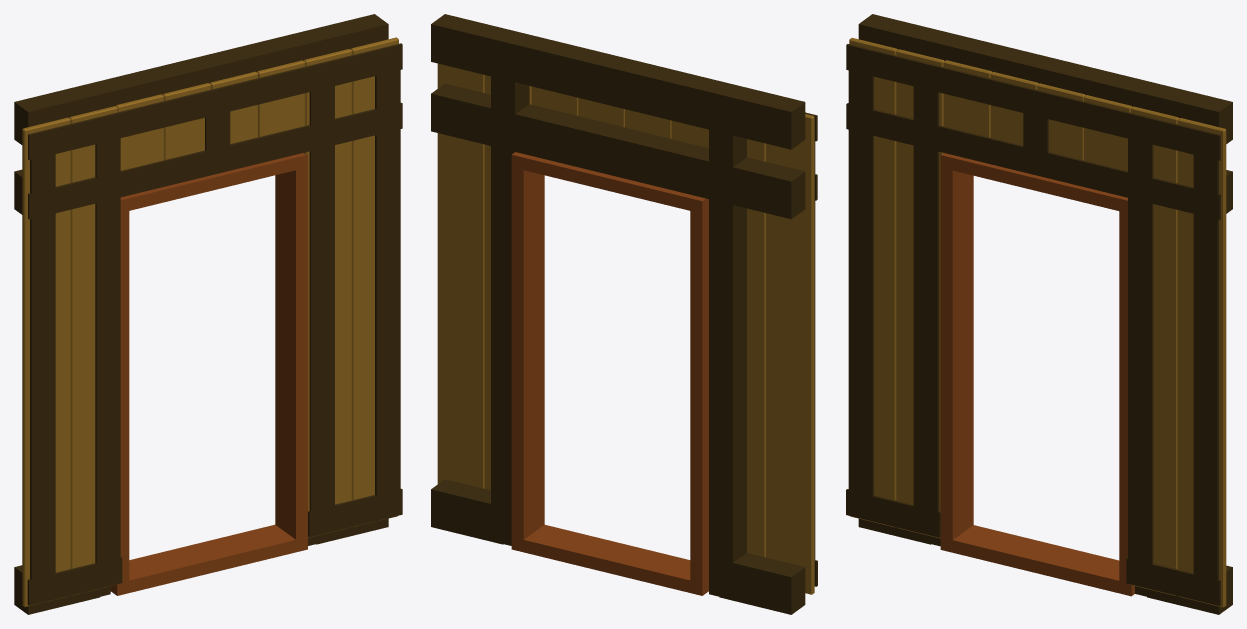
Rendered from zid sa vrata.FBX.
3 views of the same model, side by side, from view 1: azimuth 30°, elevation 25°; view 2: azimuth 150°, elevation 25°; view 3: azimuth 330°, elevation 25° (orthographic).
Visible parts, largest first — view 1: zid_ukras_vrata001, zid_tarabe_vrata001, vrata001, zid_konstrukcija_vrata001; view 2: zid_konstrukcija_vrata001, zid_tarabe_vrata001, vrata001, zid_ukras_vrata001; view 3: zid_ukras_vrata001, zid_tarabe_vrata001, vrata001, zid_konstrukcija_vrata001.
Part boxes in pixels (box(x1,y1,x2,y2)): zid_ukras_vrata001: box(27, 43, 402, 605); zid_tarabe_vrata001: box(22, 37, 398, 607); vrata001: box(110, 153, 307, 595); zid_konstrukcija_vrata001: box(14, 14, 388, 614); zid_konstrukcija_vrata001: box(431, 14, 805, 614); zid_tarabe_vrata001: box(437, 63, 814, 594); vrata001: box(511, 152, 708, 595); zid_ukras_vrata001: box(805, 112, 817, 586); zid_ukras_vrata001: box(846, 44, 1220, 605); zid_tarabe_vrata001: box(849, 37, 1226, 607); vrata001: box(940, 153, 1134, 596); zid_konstrukcija_vrata001: box(858, 14, 1232, 614).
Size of the model in its own units: 156 by 200 by 17.33.
